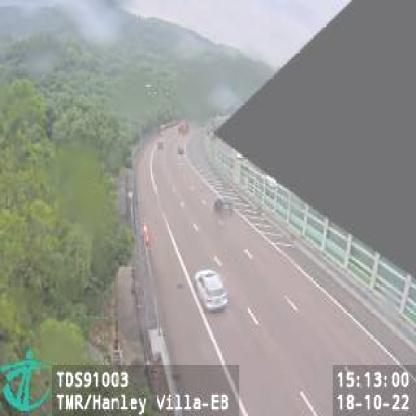Car: (194, 266, 230, 311), (214, 194, 233, 216), (178, 146, 186, 156)
